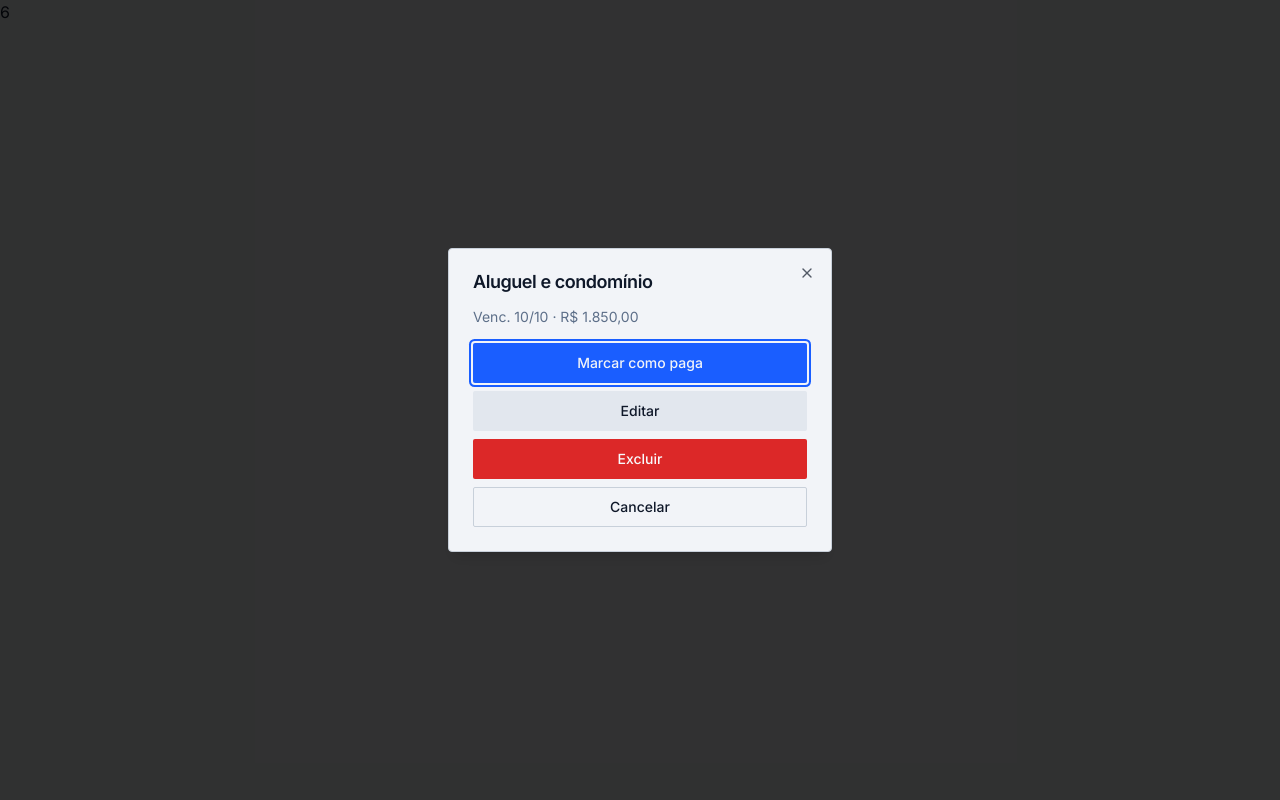
Scenario: AcoesLancamentoDialog — alcance de parcelamento › despesa sem parcelamento vai direto pro formulario, sem perguntar alcance
The image size is (1280, 800).
Click the button "Editar" at coordinates (640, 411), box [473,391,807,431]
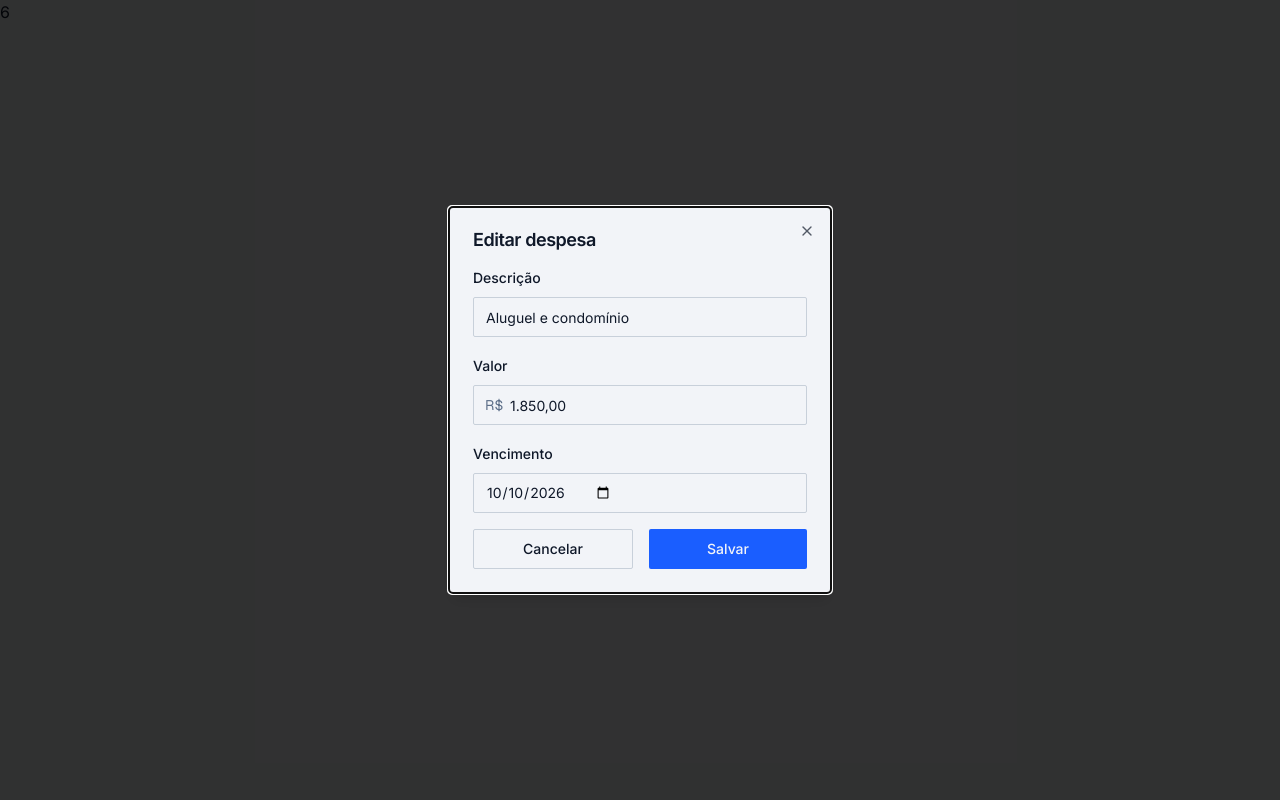
Expected: the field labelled "Descrição" is shown, [473,297,807,337]
